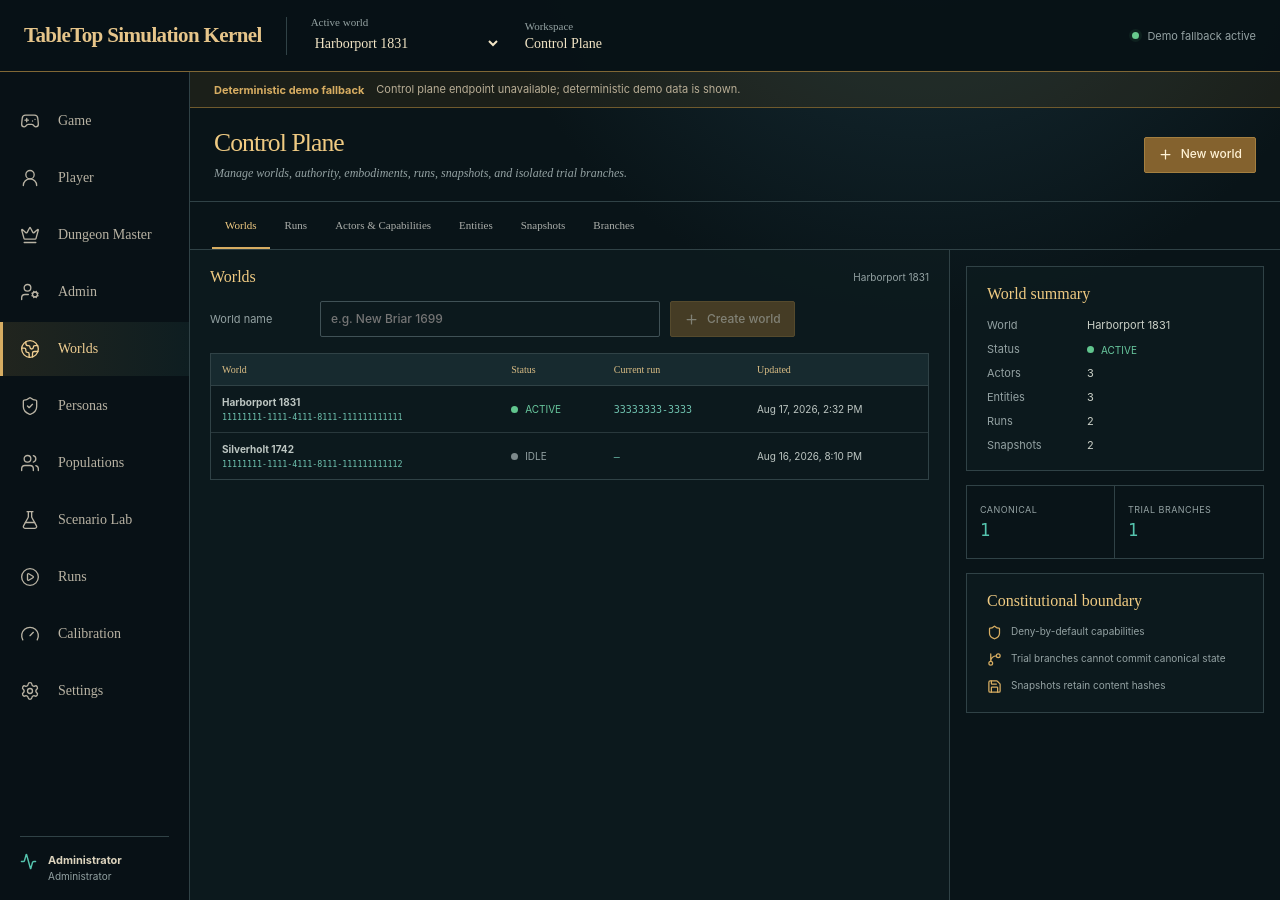
simulation kernel application journeys › creates a clearly demo-labeled world when the live endpoint is unavailable
Expected: the heading "Control Plane" is shown, [214,128,344,157]
Type "Ashfall Reach" into the field with test id "world-name" at (490, 319), box [320,301,660,337]
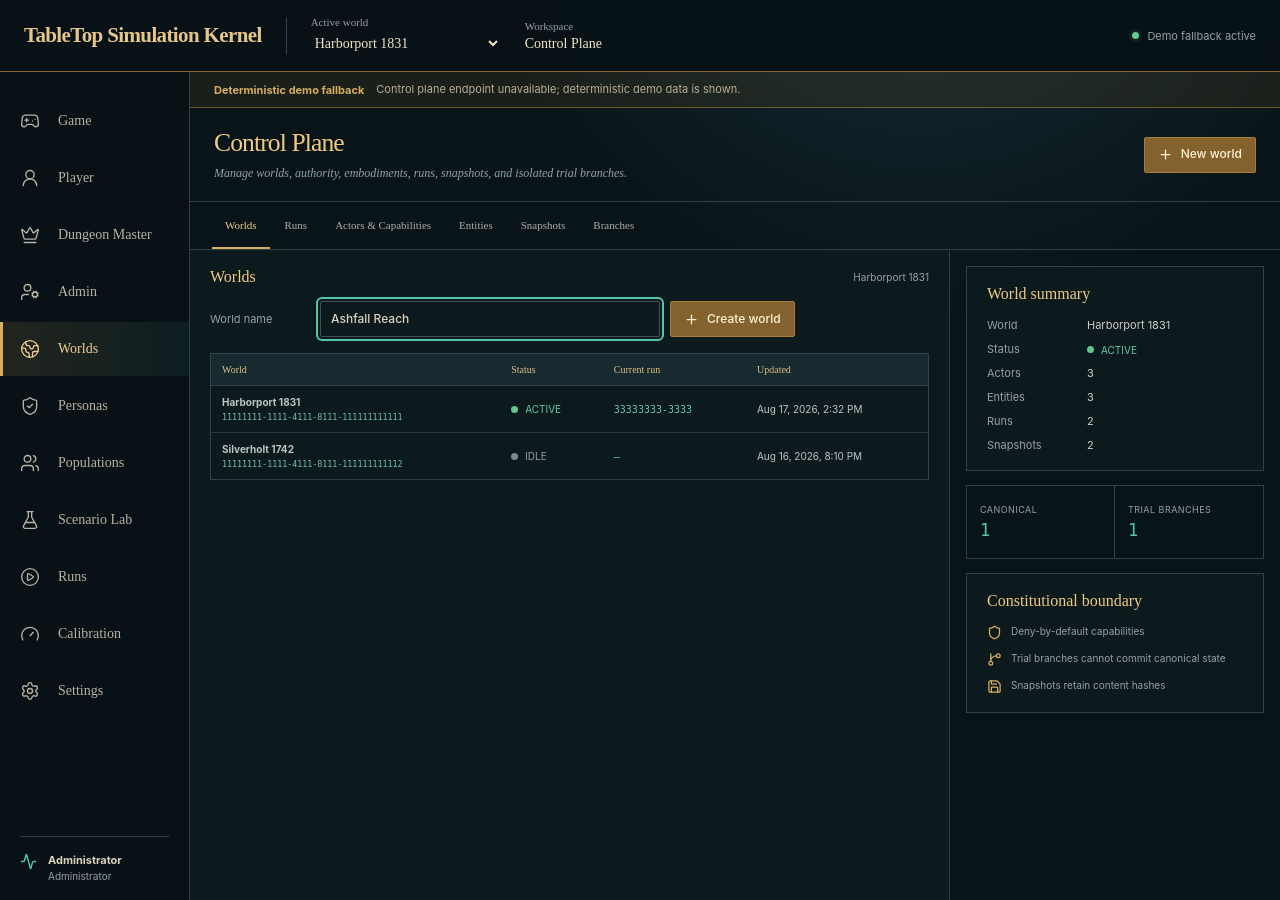
Click the button "Create world" at (732, 319), box [670,301,795,337]
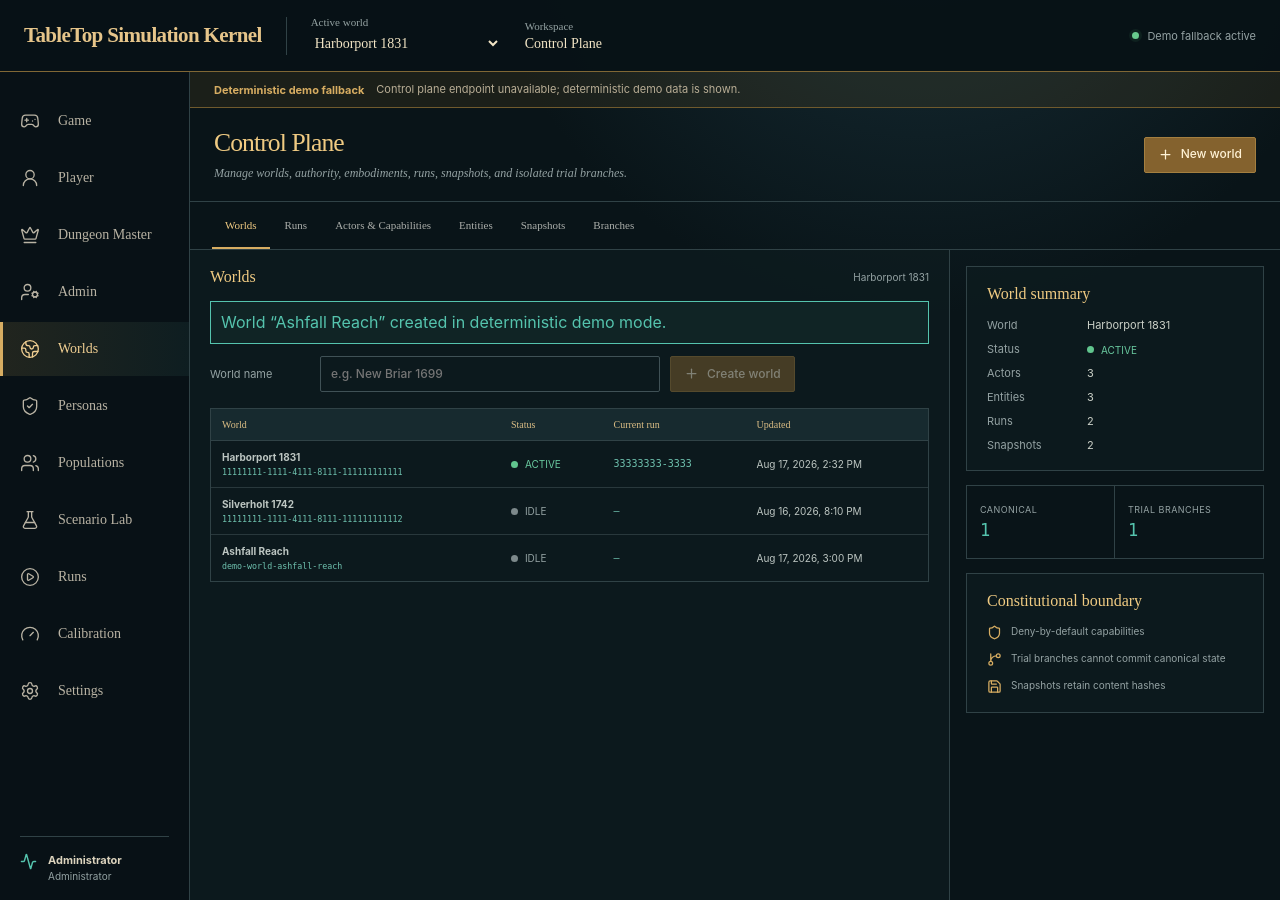
Now the text "Ashfall Reach" is shown, box [222,545,289,557]
